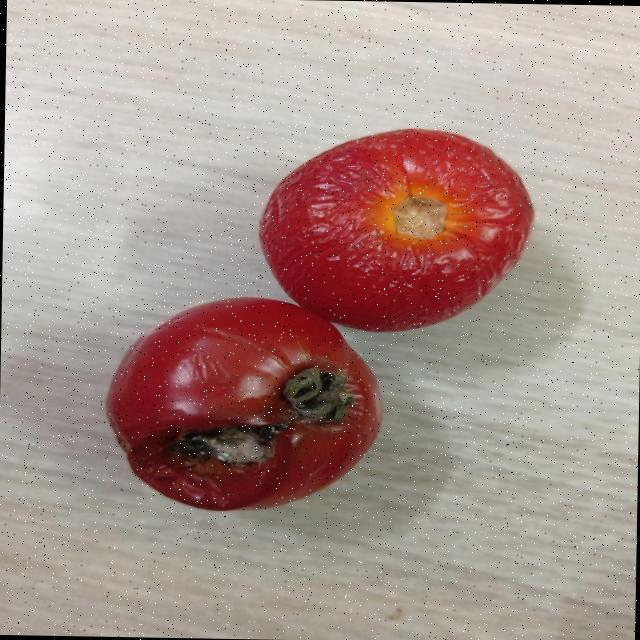Rotten: (100, 293, 383, 514)
overripe: (253, 126, 535, 333)
